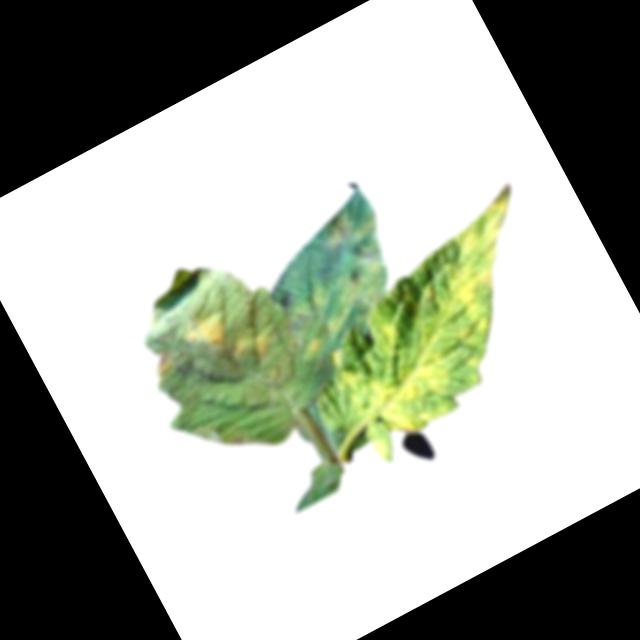Leaf_Mold: (390, 183, 585, 391), (251, 198, 421, 364), (319, 298, 472, 452), (181, 307, 238, 361), (228, 326, 279, 371), (146, 349, 180, 381)
